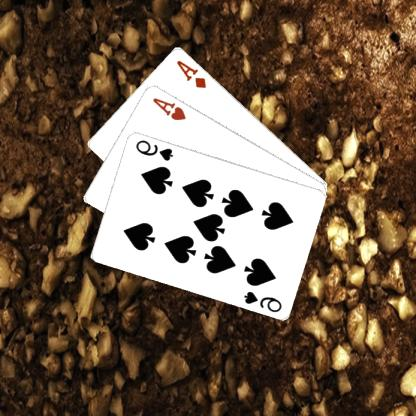9S: (242, 288, 284, 314), (134, 137, 176, 162)
AD: (175, 57, 209, 89)
AH: (152, 94, 190, 122)
